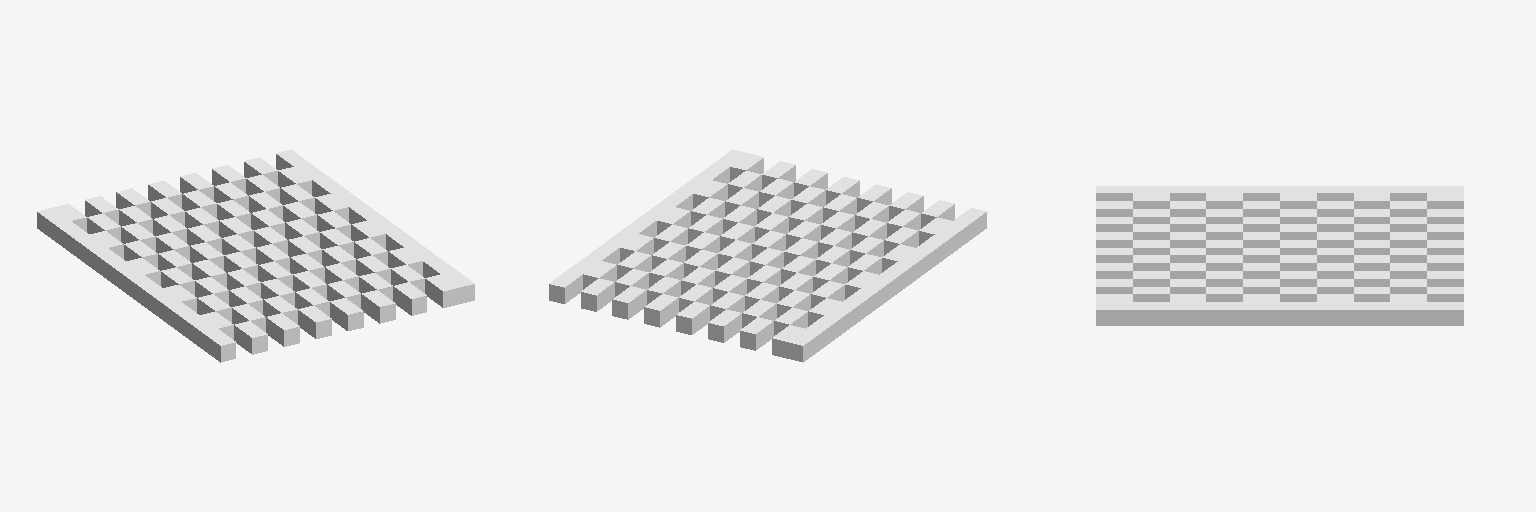
The model's file is glue_catwalk_a.obj.
The picture shows the model from 3 angles: view 1: azimuth 30°, elevation 25°; view 2: azimuth 150°, elevation 25°; view 3: azimuth 270°, elevation 25°; orthographic projection.
Visible parts, largest first — view 1: object 1; view 2: object 1; view 3: object 1.
Part boxes in pixels (x1,y1,x2,y2): object 1: (37, 149, 474, 362); object 1: (549, 149, 986, 362); object 1: (1096, 186, 1463, 325).
Bounding box in the file's own units: 1.6 × 0.1 × 2.